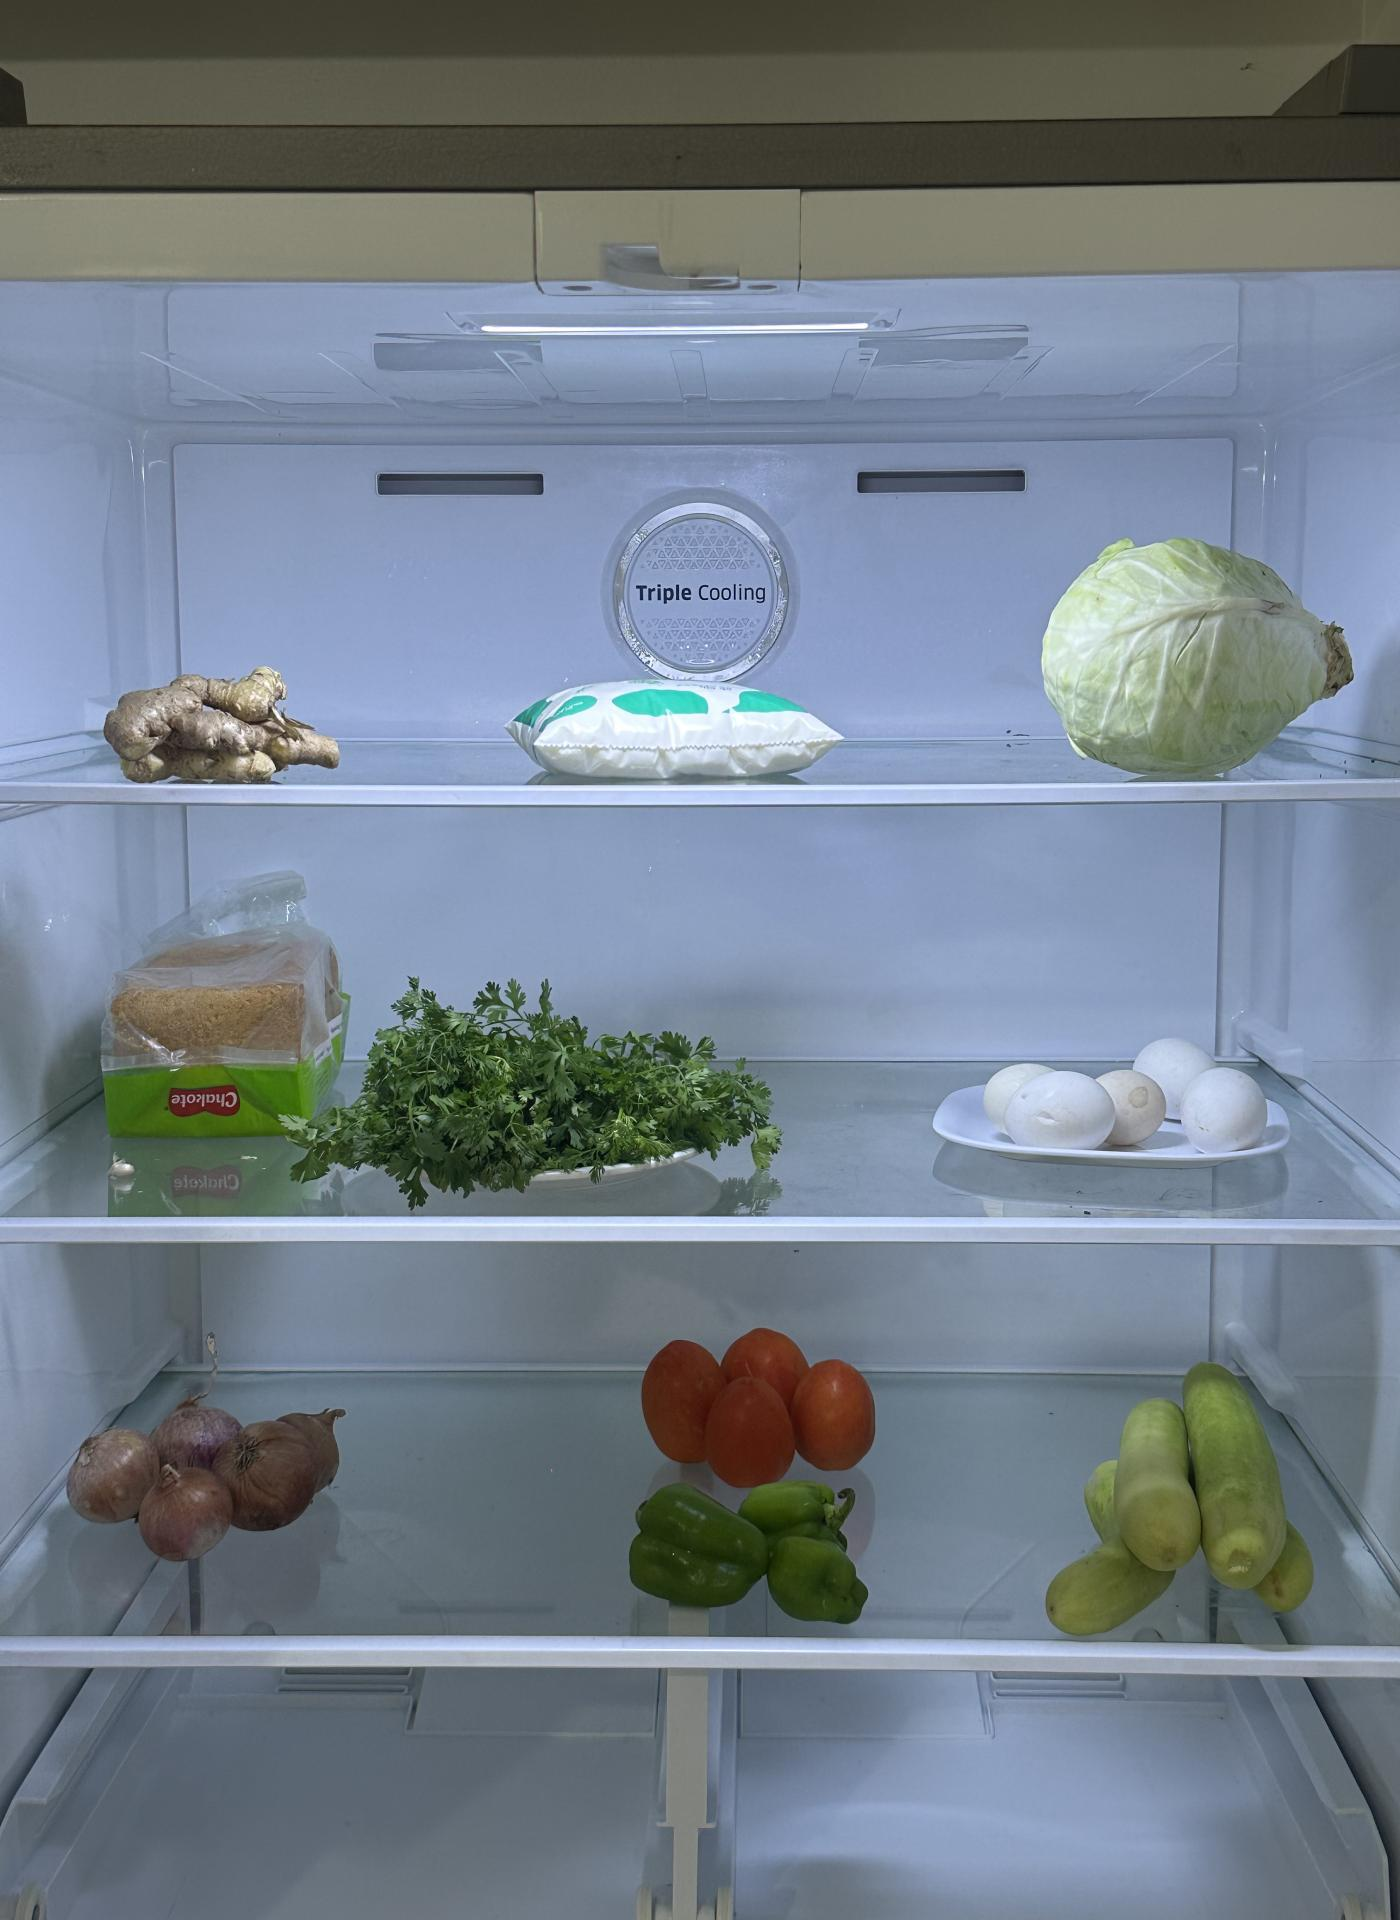bread: (103, 920, 350, 1172)
cabbage: (1042, 540, 1361, 795)
capsicum: (607, 1482, 884, 1641)
coriander: (362, 978, 780, 1203)
cucumber: (1047, 1377, 1339, 1641)
egg: (941, 1043, 1296, 1184)
ginger: (98, 644, 353, 780)
milk: (510, 653, 836, 784)
onion: (70, 1391, 347, 1561)
tomato: (640, 1321, 892, 1497)
